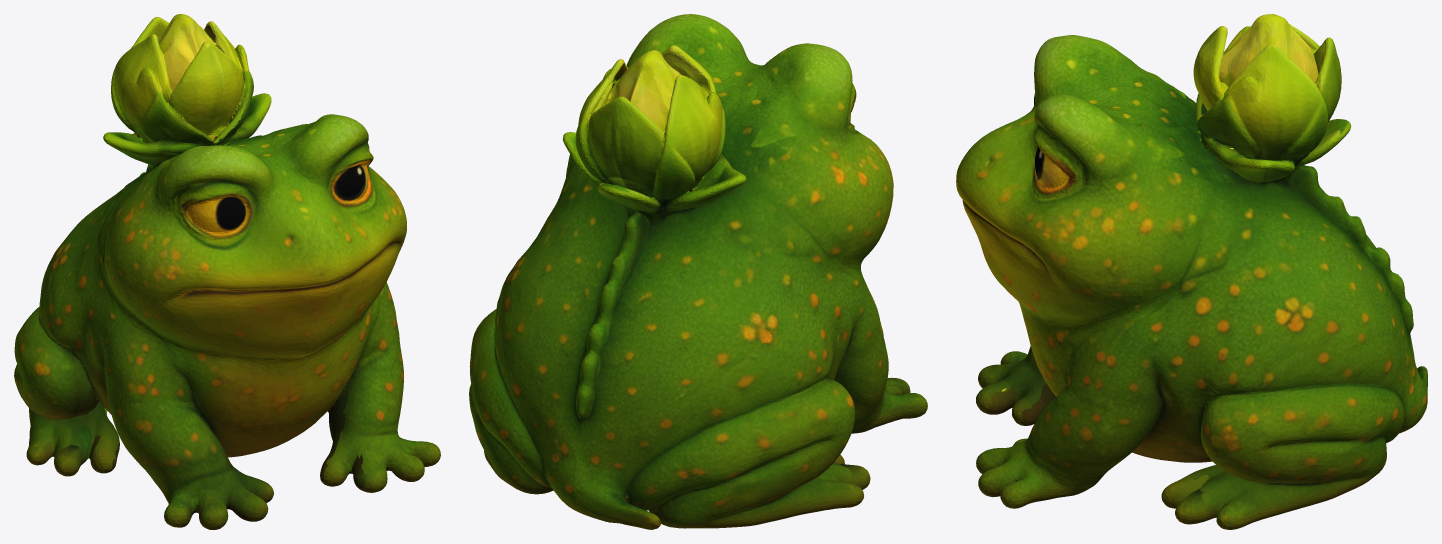
File: bubusaur.glb
3 renders of one model, left to right at view 1: azimuth 30°, elevation 25°; view 2: azimuth 150°, elevation 25°; view 3: azimuth 270°, elevation 25°, orthographic. The views are drawn at different scales.
Parts seen in each view (by area): view 1: temp_mesh.ply; view 2: temp_mesh.ply; view 3: temp_mesh.ply.
Boxes of the visible parts, left/top/right/bottom form: temp_mesh.ply: left=14, top=14, right=440, bottom=529; temp_mesh.ply: left=469, top=14, right=927, bottom=529; temp_mesh.ply: left=956, top=14, right=1427, bottom=529.
Size of the model in its own units: 1.82 by 1.96 by 1.96.
1 material, 1 textured.
